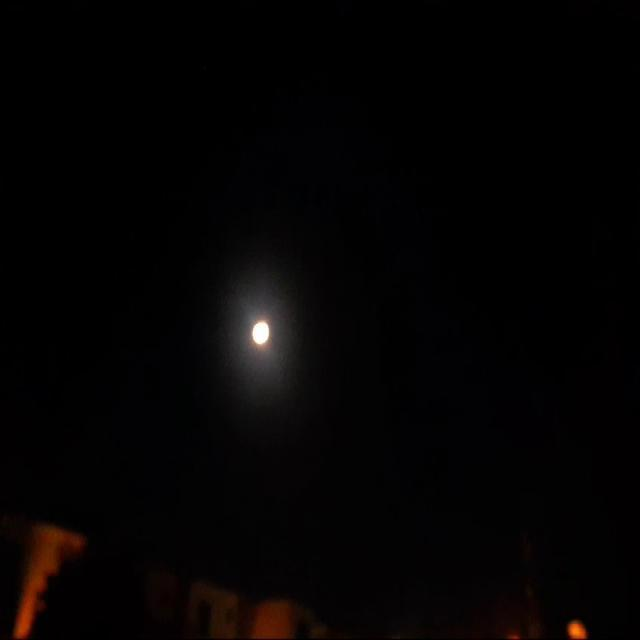moon: (244, 308, 266, 348)
